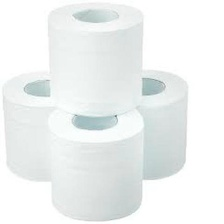tissue: (39, 98, 151, 224), (42, 0, 149, 121), (0, 65, 88, 187), (105, 63, 192, 185)
